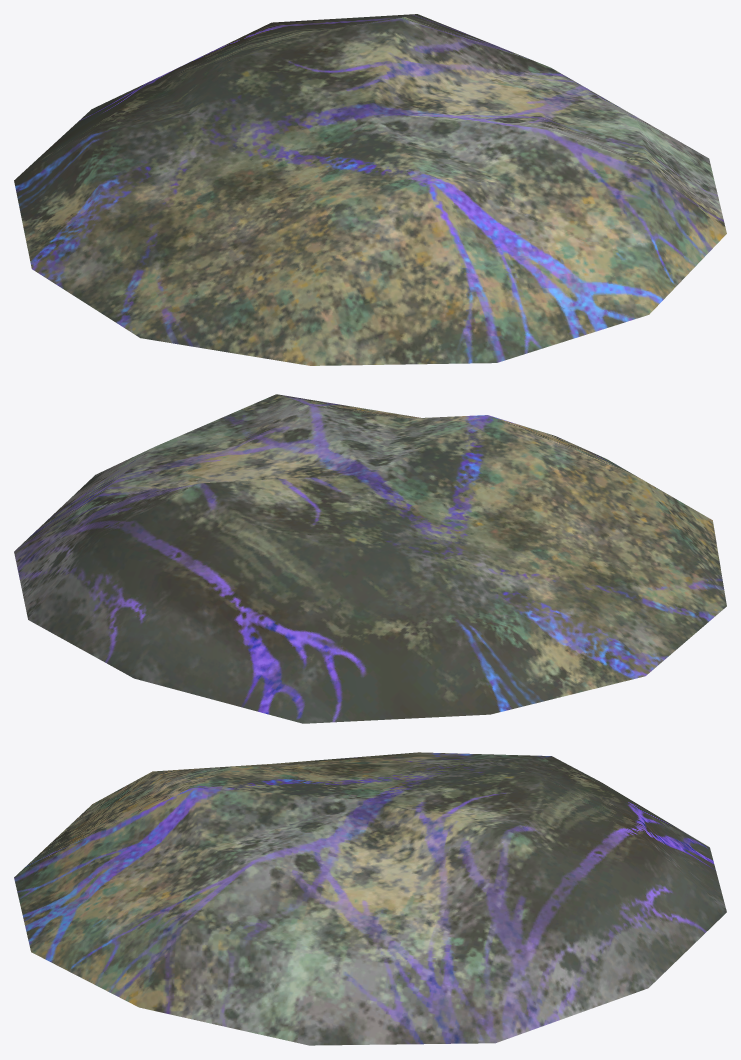
Rendered from Mold_03.obj.
The picture shows the model from 3 angles, top to bottom: view 1: azimuth 30°, elevation 25°; view 2: azimuth 150°, elevation 25°; view 3: azimuth 270°, elevation 25°; orthographic projection. The views are drawn at different scales.
Visible parts, largest first — view 1: Model_Mold_03; view 2: Model_Mold_03; view 3: Model_Mold_03.
Boxes of the visible parts, <box> form: Model_Mold_03: <box>14,14,726,365</box>; Model_Mold_03: <box>14,394,726,723</box>; Model_Mold_03: <box>14,752,726,1045</box>.
Bounding box in the file's own units: 0.9554 × 0.1864 × 0.9787.
1 material, 1 textured.
